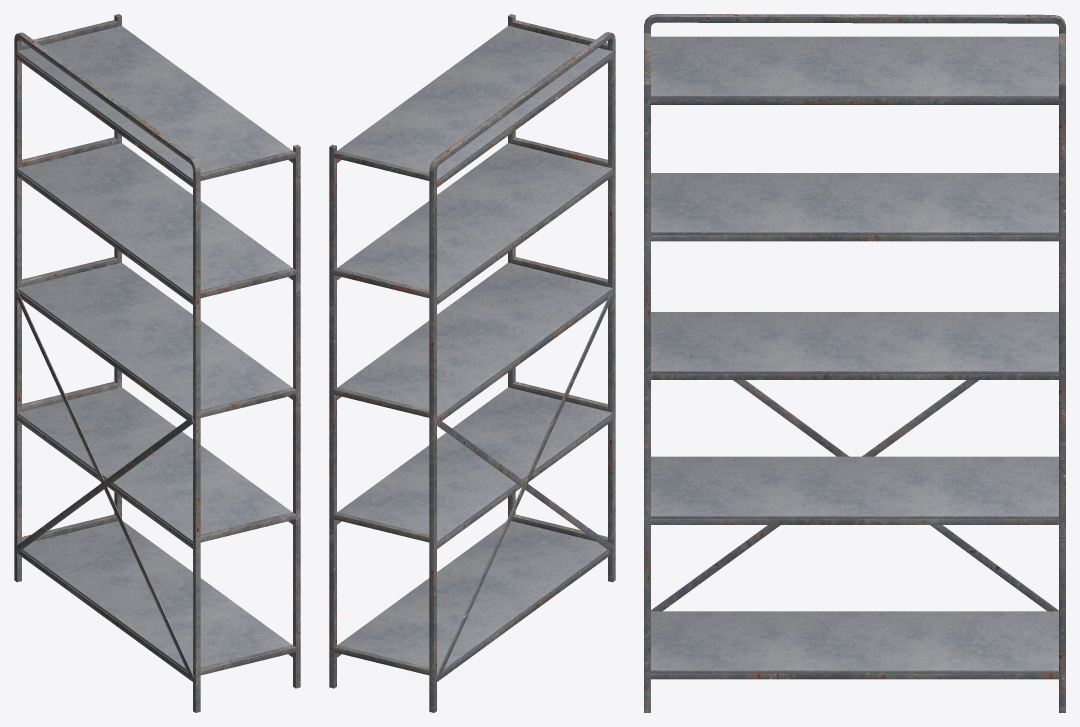
File: MetalShelf.FBX
3 renders of one model, left to right at view 1: azimuth 30°, elevation 25°; view 2: azimuth 150°, elevation 25°; view 3: azimuth 270°, elevation 25°, orthographic. The views are drawn at different scales.
Parts seen in each view (by area): view 1: Box044; view 2: Box044; view 3: Box044.
Boxes of the visible parts, x1,y1,x2,y2 form: Box044: (14,14,300,712); Box044: (329,14,615,712); Box044: (644,14,1065,712).
Size of the model in its own units: 11.31 by 56.24 by 33.61.
